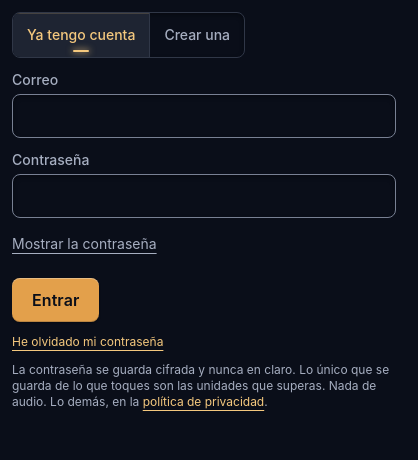
Test: entrar › un fallo sin frase tiene una de respaldo
In the field labelled "Correo": [204, 116] box [12,94,396,138], type "a@b.c"
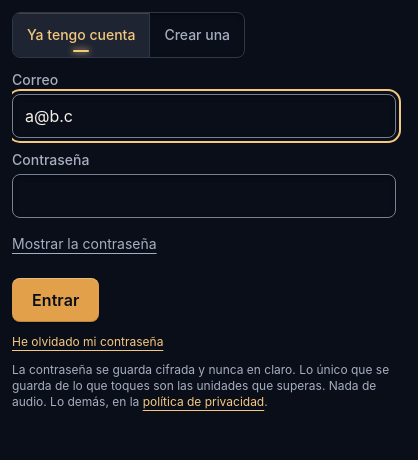
In the password field labelled "Contraseña": [204, 196] box [12,174,396,218], type "mal"
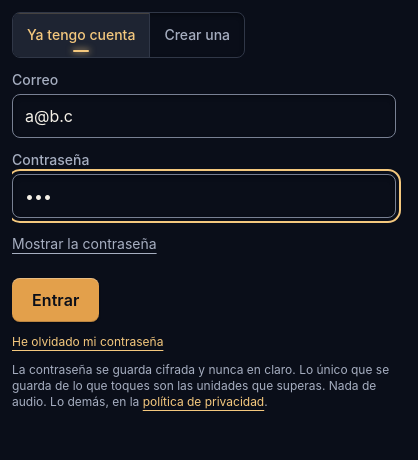
Click the button "Entrar": [56, 300] box [12,278,99,322]
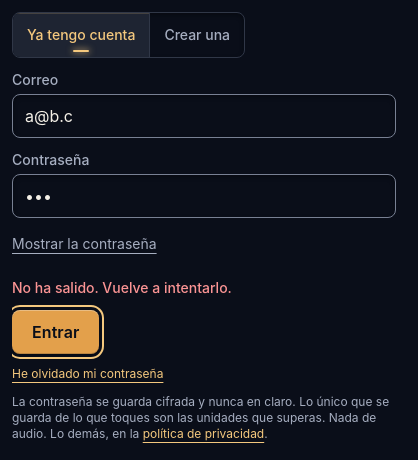
Expected: the text "No ha salido. Vuelve a intentarlo." is shown, [12,279,232,296]
